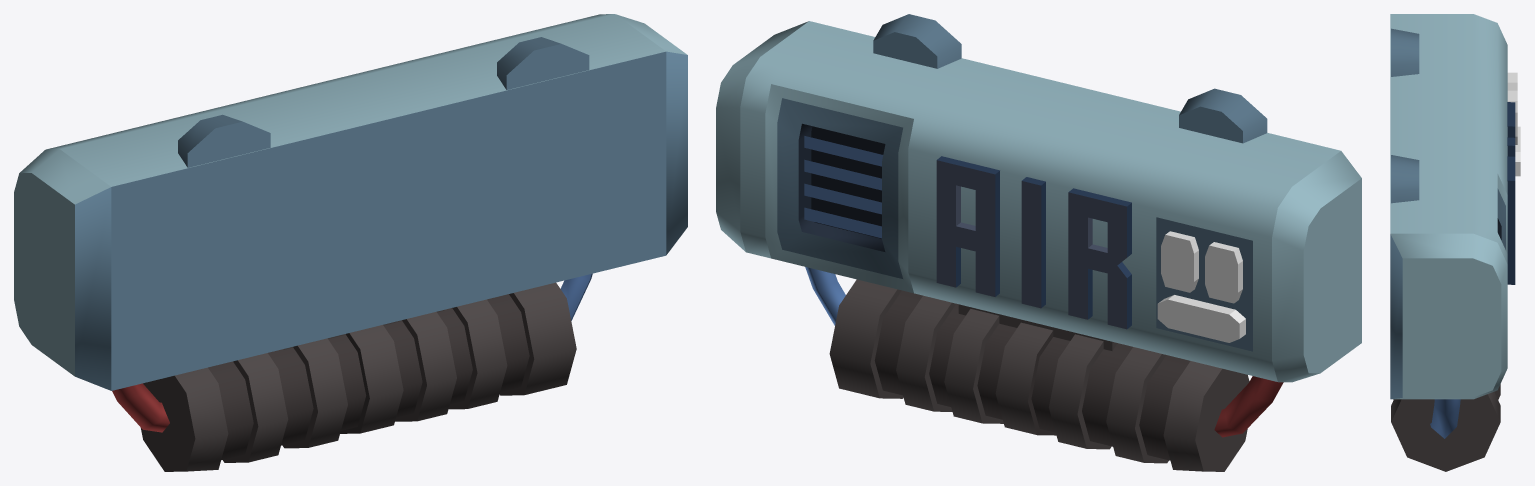
File: Air Alarm.fbx
3 renders of one model, left to right at view 1: azimuth 30°, elevation 25°; view 2: azimuth 150°, elevation 25°; view 3: azimuth 270°, elevation 25°, orthographic. The views are drawn at different scales.
Parts seen in each view (by area): view 1: Air Alarm; view 2: Air Alarm; view 3: Air Alarm.
Boxes of the visible parts, x1,y1,x2,y2 form: Air Alarm: (14, 14, 687, 471); Air Alarm: (716, 14, 1361, 471); Air Alarm: (1390, 14, 1520, 471).
Size of the model in its own units: 0.7888 by 0.4549 by 0.1787.
